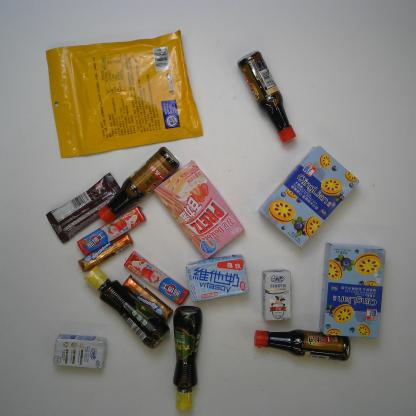Candy: (123, 251, 188, 306), (77, 206, 146, 256), (121, 273, 174, 321), (77, 230, 133, 275)
Chocolate: (45, 170, 126, 245)
Dessert: (255, 142, 362, 250), (153, 159, 247, 262), (318, 239, 388, 341)
Dried Fruit: (45, 29, 204, 158)
Milk: (186, 254, 249, 304), (51, 332, 109, 370), (262, 268, 292, 322)
Seasoner: (84, 264, 171, 350), (100, 146, 180, 225), (237, 49, 298, 144), (171, 303, 203, 413), (254, 328, 352, 361)
